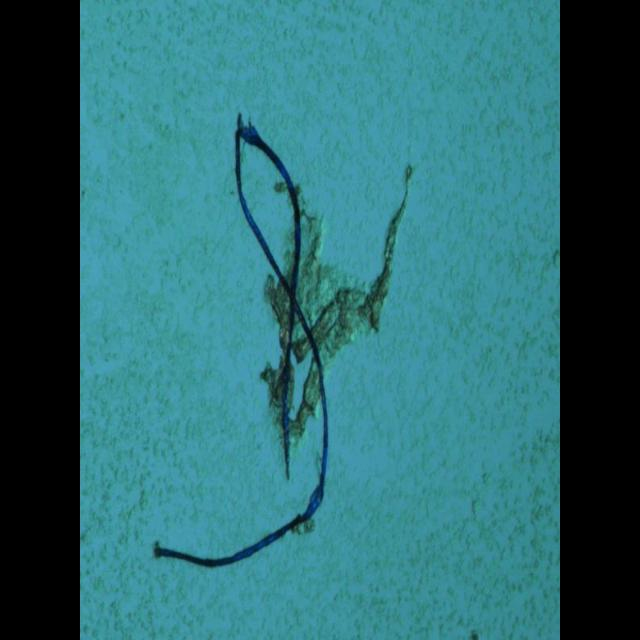Fibre: (154, 111, 412, 569)
